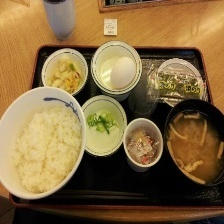rice: (1, 101, 85, 197)
